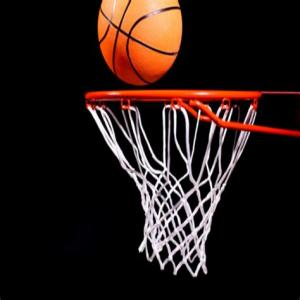Basket: (97, 0, 184, 88)
